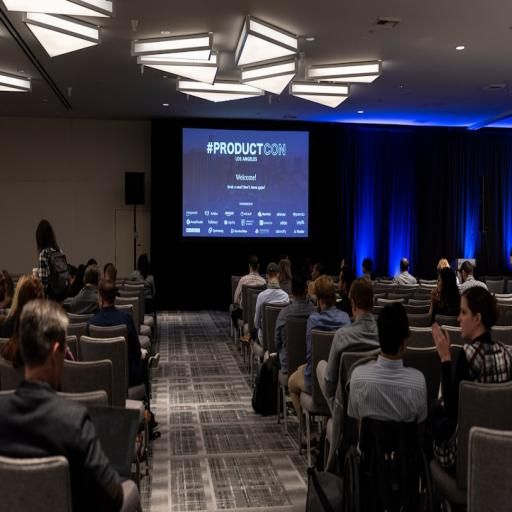face: (458, 296, 480, 340)
